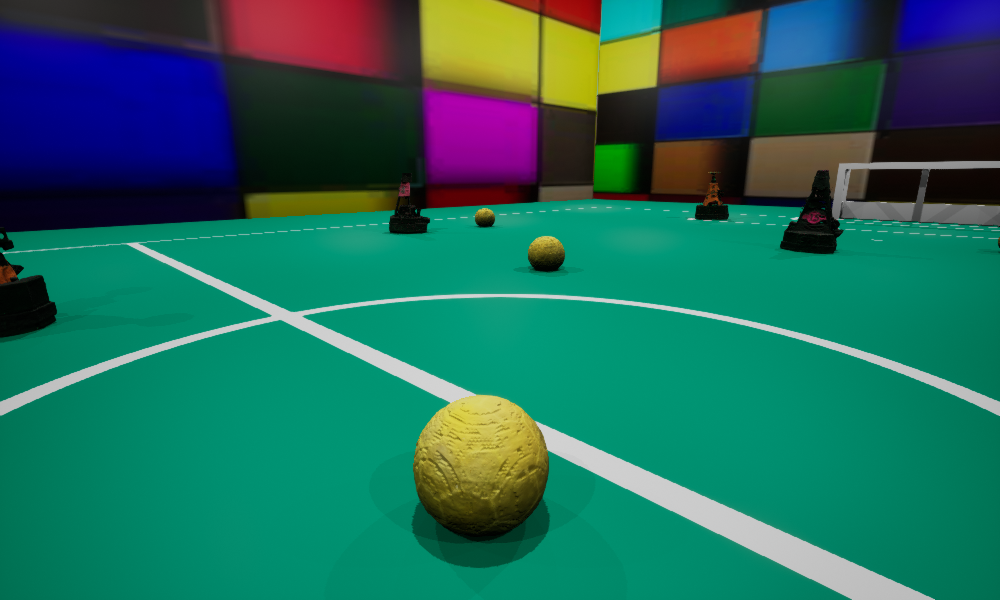b: (413, 395, 548, 536), (528, 236, 564, 269), (475, 208, 494, 226), (998, 237, 999, 247)
o: (0, 227, 56, 337), (695, 172, 728, 219)
p1: (780, 170, 843, 253)
p2: (389, 173, 429, 233)
